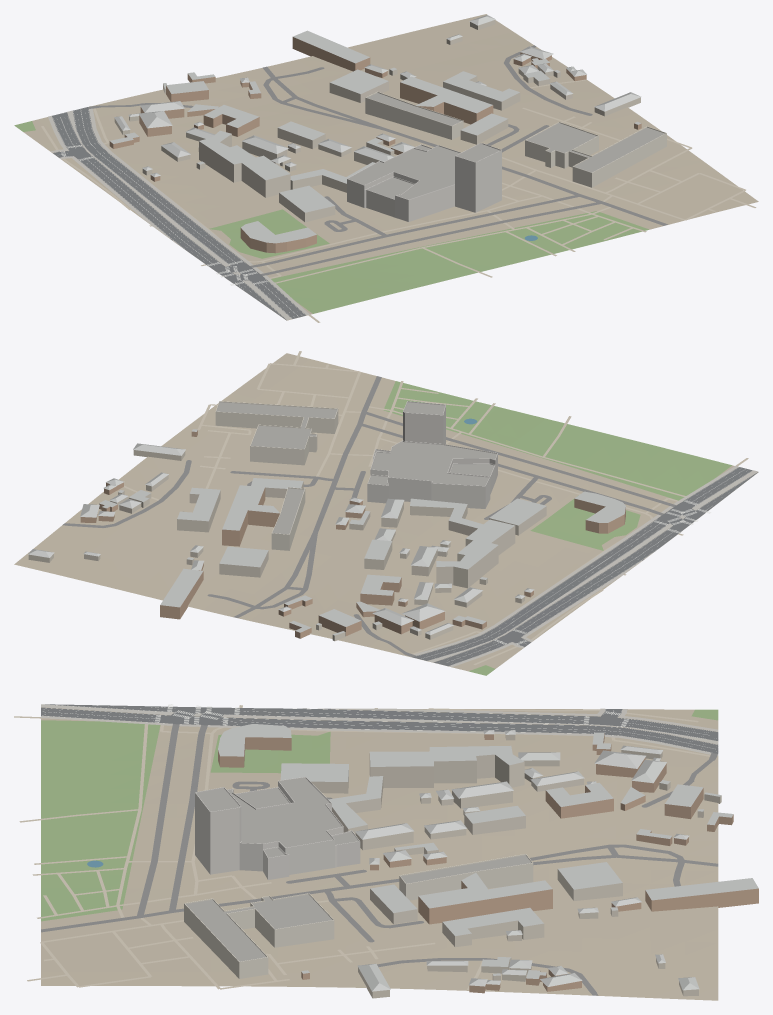
The model's file is bolak_-3_-1.glb.
3 views of the same model, one above another, from view 1: azimuth 30°, elevation 25°; view 2: azimuth 150°, elevation 25°; view 3: azimuth 270°, elevation 25° (orthographic). The views are drawn at different scales.
Visible parts, largest first — view 1: Yer_Tuproq-col, Tom_Shifer, Yer_Maysa, Devor_Suvoq-col, Yol_Asfalt-col, Tom_Tekis, Yol_Mahalla-col, Devor_Gisht-col, Devor_Panel-col, Yol_Piyoda, Devor_Jamoat-col, Trotuar (+1 smaller); view 2: Yer_Tuproq-col, Tom_Shifer, Yer_Maysa, Yol_Asfalt-col, Tom_Tekis, Devor_Suvoq-col, Yol_Mahalla-col, Devor_Gisht-col, Devor_Panel-col, Yol_Piyoda, Devor_Jamoat-col, Trotuar (+1 smaller); view 3: Yer_Tuproq-col, Tom_Shifer, Yer_Maysa, Devor_Suvoq-col, Yol_Asfalt-col, Tom_Tekis, Devor_Gisht-col, Yol_Mahalla-col, Devor_Panel-col, Yol_Piyoda, Devor_Jamoat-col, Trotuar (+1 smaller).
Part boxes in pixels (bbox=[...]): Yer_Tuproq-col: bbox=[23, 14, 758, 320]; Tom_Shifer: bbox=[110, 15, 641, 243]; Yer_Maysa: bbox=[14, 121, 648, 313]; Devor_Suvoq-col: bbox=[114, 20, 640, 222]; Yol_Asfalt-col: bbox=[52, 107, 305, 320]; Tom_Tekis: bbox=[348, 93, 664, 199]; Yol_Mahalla-col: bbox=[88, 45, 667, 275]; Devor_Gisht-col: bbox=[109, 37, 641, 253]; Devor_Panel-col: bbox=[347, 143, 501, 221]; Yol_Piyoda: bbox=[41, 79, 756, 322]; Devor_Jamoat-col: bbox=[365, 91, 666, 187]; Trotuar: bbox=[48, 106, 309, 320]; Yer_Tuproq-col: bbox=[14, 353, 757, 671]; Tom_Shifer: bbox=[28, 429, 625, 635]; Yer_Maysa: bbox=[383, 381, 731, 675]; Yol_Asfalt-col: bbox=[412, 467, 758, 666]; Tom_Tekis: bbox=[216, 402, 496, 534]; Devor_Suvoq-col: bbox=[28, 450, 546, 641]; Yol_Mahalla-col: bbox=[62, 376, 675, 657]; Devor_Gisht-col: bbox=[80, 430, 625, 638]; Devor_Panel-col: bbox=[367, 401, 497, 508]; Yol_Piyoda: bbox=[124, 351, 748, 664]; Devor_Jamoat-col: bbox=[215, 401, 338, 550]; Trotuar: bbox=[409, 466, 758, 666]; Yer_Tuproq-col: bbox=[41, 707, 718, 1000]; Tom_Shifer: bbox=[218, 724, 758, 991]; Yer_Maysa: bbox=[41, 709, 718, 921]; Devor_Suvoq-col: bbox=[311, 734, 721, 998]; Yol_Asfalt-col: bbox=[41, 704, 718, 753]; Tom_Tekis: bbox=[186, 778, 531, 961]; Devor_Gisht-col: bbox=[218, 733, 758, 993]; Yol_Mahalla-col: bbox=[41, 708, 718, 995]; Devor_Panel-col: bbox=[195, 777, 360, 879]; Yol_Piyoda: bbox=[14, 705, 710, 989]; Devor_Jamoat-col: bbox=[184, 854, 533, 978]; Trotuar: bbox=[41, 704, 718, 755].
Size of what is drawn, in the model's own units: 418 by 49.13 by 440.
